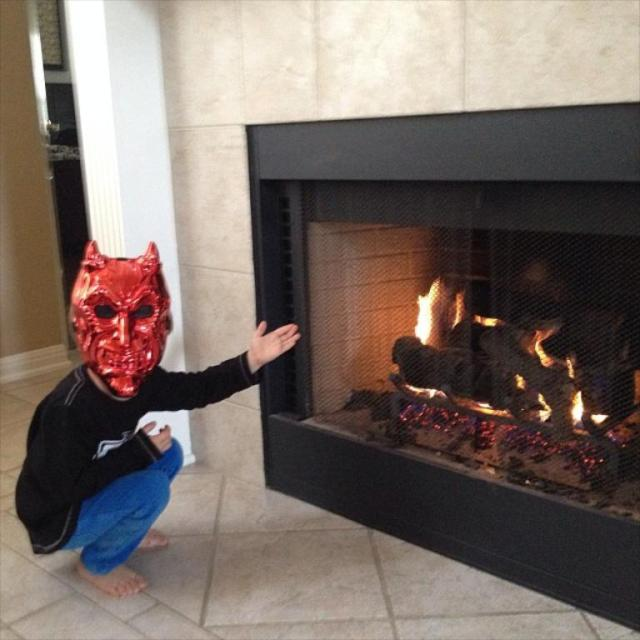Fire: (382, 256, 620, 443)
